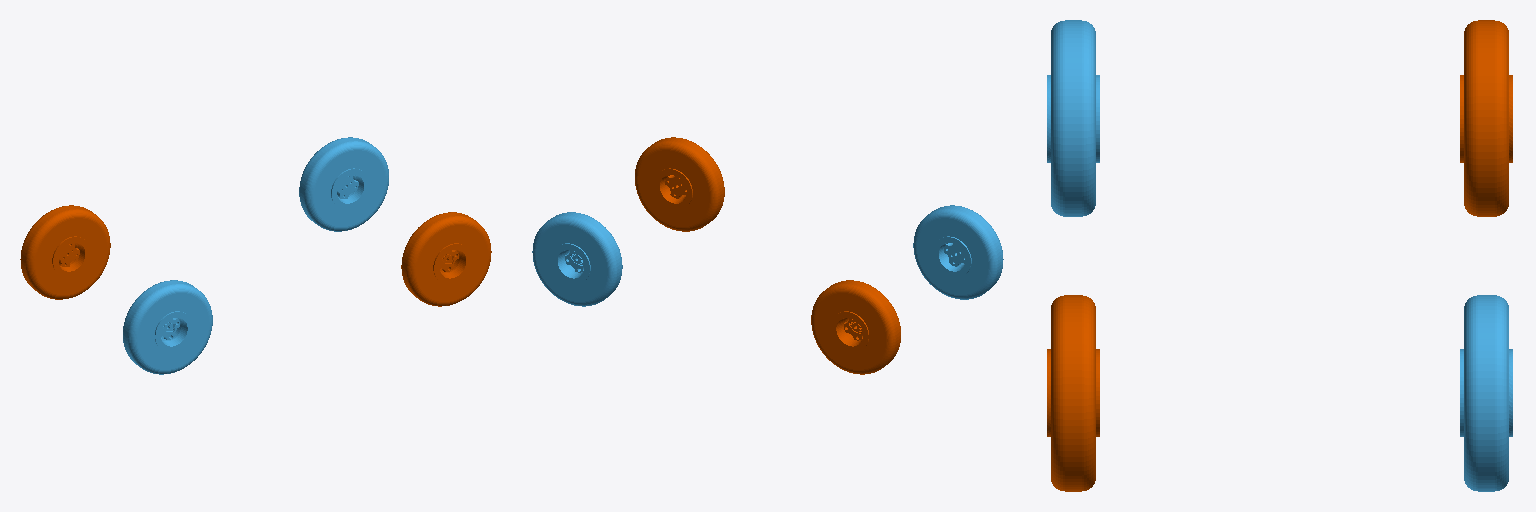
URDF robot description (flowerbot):
<?xml version="1.0" encoding="utf-8"?>
<!-- =================================================================================== -->
<!-- |    This document was autogenerated by xacro from flowerbot.urdf.xacro           | -->
<!-- |    EDITING THIS FILE BY HAND IS NOT RECOMMENDED                                 | -->
<!-- =================================================================================== -->
<robot name="flowerbot" xmlns:xacro="http://ros.org/wiki/xacro">
  <link name="base_footprint"/>
  <joint name="base_joint" type="fixed">
    <origin rpy="0 0 0" xyz="0 0 0.335722"/>
    <parent link="base_footprint"/>
    <child link="base_link"/>
  </joint>
  <gazebo reference="base_link">
    <mu1>0</mu1>
    <mu2>0</mu2>
    <material>Gazebo/Grey</material>
  </gazebo>
  <link name="base_link">
    <inertial>
      <origin rpy="0 0 0" xyz="0 0.0751835052567173 0.414272"/>
      <mass value="8.95683313242359"/>
      <inertia ixx="-0.000003" ixy="0.997477" ixz="-0.070991" iyy="-0.000003" iyz="-0.000007" izz="0.997477"/>
    </inertial>
    <visual>
      <origin rpy="0 0 0" xyz="0 0 0"/>
      <geometry>
        <mesh filename="package://flowerbot_description/meshes/frame_link.STL"/>
      </geometry>
      <material name="material_blue"/>
    </visual>
    <collision>
      <origin rpy="0 0 0" xyz="0 0 0"/>
      <geometry>
        <mesh filename="package://flowerbot_description/meshes/frame_link.STL"/>
      </geometry>
    </collision>
  </link>
  <gazebo reference="wheel0_suspension_link">
    <mu1>0</mu1>
    <mu2>0</mu2>
    <kp>1000000.0</kp>
    <kd>100.0</kd>
    <material>Gazebo/Blue</material>
  </gazebo>
  <link name="wheel0_suspension_link">
    <inertial>
      <origin rpy="0 0 0" xyz="-0.033779  -0.000046 -0.112357"/>
      <mass value="0.27606"/>
      <inertia ixx="0.058272" ixy="-0.000542" ixz="0.998301" iyy="0.001418" iyz="-0.058272" izz="0.000624"/>
    </inertial>
    <visual>
      <origin rpy="0 0 0" xyz="0 0 0"/>
      <geometry>
        <mesh filename="package://flowerbot_description/meshes/suspension_link.STL"/>
      </geometry>
      <material name="material_blue"/>
    </visual>
    <collision>
      <origin rpy="0 0 0" xyz="0 0 0"/>
      <geometry>
        <mesh filename="package://flowerbot_description/meshes/suspension_link.STL"/>
      </geometry>
    </collision>
  </link>
  <joint name="wheel0_suspension_joint" type="fixed">
    <origin rpy="0 0 3.14159265359" xyz="0.3048 -0.29195 0.21"/>
    <parent link="base_link"/>
    <child link="wheel0_suspension_link"/>
  </joint>
  <gazebo reference="wheel0_steering_link">
    <mu1>0</mu1>
    <mu2>0</mu2>
    <kp>1000000.0</kp>
    <kd>100.0</kd>
    <material>Gazebo/Orange</material>
  </gazebo>
  <gazebo reference="wheel0_steering_arm_link">
    <mu1>0</mu1>
    <mu2>0</mu2>
    <kp>1000000.0</kp>
    <kd>100.0</kd>
    <material>Gazebo/Orange</material>
  </gazebo>
  <gazebo reference="wheel0_wheel_link">
    <mu1>1</mu1>
    <mu2>1</mu2>
    <kp>1000000.0</kp>
    <kd>100.0</kd>
    <material>Gazebo/Black</material>
  </gazebo>
  <link name="wheel0_steering_arm_link">
    <inertial>
      <origin rpy="0 0 0" xyz="-0.000033 -0.059005  -0.107760"/>
      <mass value="0.64615"/>
      <inertia ixx="-0.00075" ixy="0.234166" ixz="0.972196" iyy="-0.972192" iyz="0.234167" izz="0.00008"/>
    </inertial>
    <visual>
      <origin rpy="0 0 0" xyz="0 0 0"/>
      <geometry>
        <mesh filename="package://flowerbot_description/meshes/steering_arm_link.STL"/>
      </geometry>
      <material name="material_orange"/>
    </visual>
    <collision>
      <origin rpy="0 0 0" xyz="0 0 0"/>
      <geometry>
        <mesh filename="package://flowerbot_description/meshes/steering_arm_link.STL"/>
      </geometry>
    </collision>
  </link>
  <link name="wheel0_steering_link">
    <inertial>
      <origin rpy="0 0 0" xyz="0.004891 0 0.053105"/>
      <mass value="0.49153"/>
      <inertia ixx="-0.004791" ixy="0" ixz="0.999989" iyy="0.000" iyz="0.004791" izz="0"/>
    </inertial>
    <visual>
      <origin rpy="0 0 0" xyz="0 0 0"/>
      <geometry>
        <mesh filename="package://flowerbot_description/meshes/steering_link.STL"/>
      </geometry>
      <material name="material_orange"/>
    </visual>
    <collision>
      <origin rpy="0 0 0" xyz="0 0 0"/>
      <geometry>
        <mesh filename="package://flowerbot_description/meshes/steering_link.STL"/>
      </geometry>
    </collision>
  </link>
  <joint name="wheel0_steering_joint" type="revolute">
    <origin rpy="0 0 3.14159265359" xyz="0 0 -0.001"/>
    <parent link="wheel0_steering_link"/>
    <child link="wheel0_steering_arm_link"/>
    <axis xyz="0 0 1"/>
    <limit effort="0" lower="-1.57079632679" upper="1.57079632679" velocity="1"/>
    <safety_controller k_velocity="0"/>
  </joint>
  <transmission name="wheel0_steering_joint_control">
    <type>transmission_interface/SimpleTransmission</type>
    <joint name="wheel0_steering_joint">
      <hardwareInterface>hardware_interface/EffortJointInterface</hardwareInterface>
    </joint>
    <actuator name="wheel0_steering_joint_motor">
      <hardwareInterface>hardware_interface/EffortJointInterface</hardwareInterface>
      <mechanicalReduction>504</mechanicalReduction>
    </actuator>
  </transmission>
  <joint name="wheel0_wheel_modular_joint" type="fixed">
    <origin rpy="0 0 0" xyz="-0.142143 0 -0.229872"/>
    <parent link="wheel0_suspension_link"/>
    <child link="wheel0_steering_link"/>
  </joint>
  <link name="wheel0_wheel_link">
    <inertial>
      <origin rpy="0 0 0" xyz="0 0 0.000083"/>
      <mass value="3.2532"/>
      <inertia ixx="0.999544" ixy="-0.030190" ixz="0.000003" iyy="0.999544" iyz="0.000095" izz="1.0"/>
    </inertial>
    <visual>
      <origin rpy="0 0 0" xyz="0 0 0"/>
      <geometry>
        <mesh filename="package://flowerbot_description/meshes/wheel_link.STL"/>
      </geometry>
      <material name="material_black"/>
    </visual>
    <collision>
      <origin rpy="0 0 0" xyz="0 0 0"/>
      <geometry>
        <mesh filename="package://flowerbot_description/meshes/wheel_link.STL"/>
      </geometry>
    </collision>
  </link>
  <joint name="wheel0_driving_joint" type="continuous">
    <origin rpy="-1.57079632679 0 0" xyz="0 0.007981 -0.18"/>
    <parent link="wheel0_steering_arm_link"/>
    <child link="wheel0_wheel_link"/>
    <axis xyz="0 -1 0"/>
    <safety_controller k_velocity="5"/>
  </joint>
  <transmission name="wheel0_driving_joint_control">
    <type>transmission_interface/SimpleTransmission</type>
    <joint name="wheel0_driving_joint">
      <hardwareInterface>hardware_interface/EffortJointInterface</hardwareInterface>
    </joint>
    <actuator name="wheel0_driving_joint_motor">
      <hardwareInterface>hardware_interface/EffortJointInterface</hardwareInterface>
      <mechanicalReduction>84</mechanicalReduction>
    </actuator>
  </transmission>
  <gazebo reference="wheel1_suspension_link">
    <mu1>0</mu1>
    <mu2>0</mu2>
    <kp>1000000.0</kp>
    <kd>100.0</kd>
    <material>Gazebo/Blue</material>
  </gazebo>
  <link name="wheel1_suspension_link">
    <inertial>
      <origin rpy="0 0 0" xyz="-0.033779  -0.000046 -0.112357"/>
      <mass value="0.27606"/>
      <inertia ixx="0.058272" ixy="-0.000542" ixz="0.998301" iyy="0.001418" iyz="-0.058272" izz="0.000624"/>
    </inertial>
    <visual>
      <origin rpy="0 0 0" xyz="0 0 0"/>
      <geometry>
        <mesh filename="package://flowerbot_description/meshes/suspension_link.STL"/>
      </geometry>
      <material name="material_blue"/>
    </visual>
    <collision>
      <origin rpy="0 0 0" xyz="0 0 0"/>
      <geometry>
        <mesh filename="package://flowerbot_description/meshes/suspension_link.STL"/>
      </geometry>
    </collision>
  </link>
  <joint name="wheel1_suspension_joint" type="fixed">
    <origin rpy="0 0 3.14159265359" xyz="0.3048 0.29195 0.21"/>
    <parent link="base_link"/>
    <child link="wheel1_suspension_link"/>
  </joint>
  <gazebo reference="wheel1_steering_link">
    <mu1>0</mu1>
    <mu2>0</mu2>
    <kp>1000000.0</kp>
    <kd>100.0</kd>
    <material>Gazebo/Orange</material>
  </gazebo>
  <gazebo reference="wheel1_steering_arm_link">
    <mu1>0</mu1>
    <mu2>0</mu2>
    <kp>1000000.0</kp>
    <kd>100.0</kd>
    <material>Gazebo/Orange</material>
  </gazebo>
  <gazebo reference="wheel1_wheel_link">
    <mu1>1</mu1>
    <mu2>1</mu2>
    <kp>1000000.0</kp>
    <kd>100.0</kd>
    <material>Gazebo/Black</material>
  </gazebo>
  <link name="wheel1_steering_arm_link">
    <inertial>
      <origin rpy="0 0 0" xyz="-0.000033 -0.059005  -0.107760"/>
      <mass value="0.64615"/>
      <inertia ixx="-0.00075" ixy="0.234166" ixz="0.972196" iyy="-0.972192" iyz="0.234167" izz="0.00008"/>
    </inertial>
    <visual>
      <origin rpy="0 0 0" xyz="0 0 0"/>
      <geometry>
        <mesh filename="package://flowerbot_description/meshes/steering_arm_link.STL"/>
      </geometry>
      <material name="material_orange"/>
    </visual>
    <collision>
      <origin rpy="0 0 0" xyz="0 0 0"/>
      <geometry>
        <mesh filename="package://flowerbot_description/meshes/steering_arm_link.STL"/>
      </geometry>
    </collision>
  </link>
  <link name="wheel1_steering_link">
    <inertial>
      <origin rpy="0 0 0" xyz="0.004891 0 0.053105"/>
      <mass value="0.49153"/>
      <inertia ixx="-0.004791" ixy="0" ixz="0.999989" iyy="0.000" iyz="0.004791" izz="0"/>
    </inertial>
    <visual>
      <origin rpy="0 0 0" xyz="0 0 0"/>
      <geometry>
        <mesh filename="package://flowerbot_description/meshes/steering_link.STL"/>
      </geometry>
      <material name="material_orange"/>
    </visual>
    <collision>
      <origin rpy="0 0 0" xyz="0 0 0"/>
      <geometry>
        <mesh filename="package://flowerbot_description/meshes/steering_link.STL"/>
      </geometry>
    </collision>
  </link>
  <joint name="wheel1_steering_joint" type="revolute">
    <origin rpy="0 0 0" xyz="0 0 -0.001"/>
    <parent link="wheel1_steering_link"/>
    <child link="wheel1_steering_arm_link"/>
    <axis xyz="0 0 1"/>
    <limit effort="0" lower="-1.57079632679" upper="1.57079632679" velocity="1"/>
    <safety_controller k_velocity="0"/>
  </joint>
  <transmission name="wheel1_steering_joint_control">
    <type>transmission_interface/SimpleTransmission</type>
    <joint name="wheel1_steering_joint">
      <hardwareInterface>hardware_interface/EffortJointInterface</hardwareInterface>
    </joint>
    <actuator name="wheel1_steering_joint_motor">
      <hardwareInterface>hardware_interface/EffortJointInterface</hardwareInterface>
      <mechanicalReduction>504</mechanicalReduction>
    </actuator>
  </transmission>
  <joint name="wheel1_wheel_modular_joint" type="fixed">
    <origin rpy="0 0 0" xyz="-0.142143 0 -0.229872"/>
    <parent link="wheel1_suspension_link"/>
    <child link="wheel1_steering_link"/>
  </joint>
  <link name="wheel1_wheel_link">
    <inertial>
      <origin rpy="0 0 0" xyz="0 0 0.000083"/>
      <mass value="3.2532"/>
      <inertia ixx="0.999544" ixy="-0.030190" ixz="0.000003" iyy="0.999544" iyz="0.000095" izz="1.0"/>
    </inertial>
    <visual>
      <origin rpy="0 0 0" xyz="0 0 0"/>
      <geometry>
        <mesh filename="package://flowerbot_description/meshes/wheel_link.STL"/>
      </geometry>
      <material name="material_black"/>
    </visual>
    <collision>
      <origin rpy="0 0 0" xyz="0 0 0"/>
      <geometry>
        <mesh filename="package://flowerbot_description/meshes/wheel_link.STL"/>
      </geometry>
    </collision>
  </link>
  <joint name="wheel1_driving_joint" type="continuous">
    <origin rpy="-1.57079632679 0 0" xyz="0 0.007981 -0.18"/>
    <parent link="wheel1_steering_arm_link"/>
    <child link="wheel1_wheel_link"/>
    <axis xyz="0 -1 0"/>
    <safety_controller k_velocity="5"/>
  </joint>
  <transmission name="wheel1_driving_joint_control">
    <type>transmission_interface/SimpleTransmission</type>
    <joint name="wheel1_driving_joint">
      <hardwareInterface>hardware_interface/EffortJointInterface</hardwareInterface>
    </joint>
    <actuator name="wheel1_driving_joint_motor">
      <hardwareInterface>hardware_interface/EffortJointInterface</hardwareInterface>
      <mechanicalReduction>84</mechanicalReduction>
    </actuator>
  </transmission>
  <gazebo reference="wheel2_suspension_link">
    <mu1>0</mu1>
    <mu2>0</mu2>
    <kp>1000000.0</kp>
    <kd>100.0</kd>
    <material>Gazebo/Blue</material>
  </gazebo>
  <link name="wheel2_suspension_link">
    <inertial>
      <origin rpy="0 0 0" xyz="-0.033779  -0.000046 -0.112357"/>
      <mass value="0.27606"/>
      <inertia ixx="0.058272" ixy="-0.000542" ixz="0.998301" iyy="0.001418" iyz="-0.058272" izz="0.000624"/>
    </inertial>
    <visual>
      <origin rpy="0 0 0" xyz="0 0 0"/>
      <geometry>
        <mesh filename="package://flowerbot_description/meshes/suspension_link.STL"/>
      </geometry>
      <material name="material_blue"/>
    </visual>
    <collision>
      <origin rpy="0 0 0" xyz="0 0 0"/>
      <geometry>
        <mesh filename="package://flowerbot_description/meshes/suspension_link.STL"/>
      </geometry>
    </collision>
  </link>
  <joint name="wheel2_suspension_joint" type="fixed">
    <origin rpy="0 0 0" xyz="-0.3048 0.29195 0.21"/>
    <parent link="base_link"/>
    <child link="wheel2_suspension_link"/>
  </joint>
  <gazebo reference="wheel2_steering_link">
    <mu1>0</mu1>
    <mu2>0</mu2>
    <kp>1000000.0</kp>
    <kd>100.0</kd>
    <material>Gazebo/Orange</material>
  </gazebo>
  <gazebo reference="wheel2_steering_arm_link">
    <mu1>0</mu1>
    <mu2>0</mu2>
    <kp>1000000.0</kp>
    <kd>100.0</kd>
    <material>Gazebo/Orange</material>
  </gazebo>
  <gazebo reference="wheel2_wheel_link">
    <mu1>1</mu1>
    <mu2>1</mu2>
    <kp>1000000.0</kp>
    <kd>100.0</kd>
    <material>Gazebo/Black</material>
  </gazebo>
  <link name="wheel2_steering_arm_link">
    <inertial>
      <origin rpy="0 0 0" xyz="-0.000033 -0.059005  -0.107760"/>
      <mass value="0.64615"/>
      <inertia ixx="-0.00075" ixy="0.234166" ixz="0.972196" iyy="-0.972192" iyz="0.234167" izz="0.00008"/>
    </inertial>
    <visual>
      <origin rpy="0 0 0" xyz="0 0 0"/>
      <geometry>
        <mesh filename="package://flowerbot_description/meshes/steering_arm_link.STL"/>
      </geometry>
      <material name="material_orange"/>
    </visual>
    <collision>
      <origin rpy="0 0 0" xyz="0 0 0"/>
      <geometry>
        <mesh filename="package://flowerbot_description/meshes/steering_arm_link.STL"/>
      </geometry>
    </collision>
  </link>
  <link name="wheel2_steering_link">
    <inertial>
      <origin rpy="0 0 0" xyz="0.004891 0 0.053105"/>
      <mass value="0.49153"/>
      <inertia ixx="-0.004791" ixy="0" ixz="0.999989" iyy="0.000" iyz="0.004791" izz="0"/>
    </inertial>
    <visual>
      <origin rpy="0 0 0" xyz="0 0 0"/>
      <geometry>
        <mesh filename="package://flowerbot_description/meshes/steering_link.STL"/>
      </geometry>
      <material name="material_orange"/>
    </visual>
    <collision>
      <origin rpy="0 0 0" xyz="0 0 0"/>
      <geometry>
        <mesh filename="package://flowerbot_description/meshes/steering_link.STL"/>
      </geometry>
    </collision>
  </link>
  <joint name="wheel2_steering_joint" type="revolute">
    <origin rpy="0 0 3.14159265359" xyz="0 0 -0.001"/>
    <parent link="wheel2_steering_link"/>
    <child link="wheel2_steering_arm_link"/>
    <axis xyz="0 0 1"/>
    <limit effort="0" lower="-1.57079632679" upper="1.57079632679" velocity="1"/>
    <safety_controller k_velocity="0"/>
  </joint>
  <transmission name="wheel2_steering_joint_control">
    <type>transmission_interface/SimpleTransmission</type>
    <joint name="wheel2_steering_joint">
      <hardwareInterface>hardware_interface/EffortJointInterface</hardwareInterface>
    </joint>
    <actuator name="wheel2_steering_joint_motor">
      <hardwareInterface>hardware_interface/EffortJointInterface</hardwareInterface>
      <mechanicalReduction>504</mechanicalReduction>
    </actuator>
  </transmission>
  <joint name="wheel2_wheel_modular_joint" type="fixed">
    <origin rpy="0 0 0" xyz="-0.142143 0 -0.229872"/>
    <parent link="wheel2_suspension_link"/>
    <child link="wheel2_steering_link"/>
  </joint>
  <link name="wheel2_wheel_link">
    <inertial>
      <origin rpy="0 0 0" xyz="0 0 0.000083"/>
      <mass value="3.2532"/>
      <inertia ixx="0.999544" ixy="-0.030190" ixz="0.000003" iyy="0.999544" iyz="0.000095" izz="1.0"/>
    </inertial>
    <visual>
      <origin rpy="0 0 0" xyz="0 0 0"/>
      <geometry>
        <mesh filename="package://flowerbot_description/meshes/wheel_link.STL"/>
      </geometry>
      <material name="material_black"/>
    </visual>
    <collision>
      <origin rpy="0 0 0" xyz="0 0 0"/>
      <geometry>
        <mesh filename="package://flowerbot_description/meshes/wheel_link.STL"/>
      </geometry>
    </collision>
  </link>
  <joint name="wheel2_driving_joint" type="continuous">
    <origin rpy="-1.57079632679 0 0" xyz="0 0.007981 -0.18"/>
    <parent link="wheel2_steering_arm_link"/>
    <child link="wheel2_wheel_link"/>
    <axis xyz="0 -1 0"/>
    <safety_controller k_velocity="5"/>
  </joint>
  <transmission name="wheel2_driving_joint_control">
    <type>transmission_interface/SimpleTransmission</type>
    <joint name="wheel2_driving_joint">
      <hardwareInterface>hardware_interface/EffortJointInterface</hardwareInterface>
    </joint>
    <actuator name="wheel2_driving_joint_motor">
      <hardwareInterface>hardware_interface/EffortJointInterface</hardwareInterface>
      <mechanicalReduction>84</mechanicalReduction>
    </actuator>
  </transmission>
  <gazebo reference="wheel3_suspension_link">
    <mu1>0</mu1>
    <mu2>0</mu2>
    <kp>1000000.0</kp>
    <kd>100.0</kd>
    <material>Gazebo/Blue</material>
  </gazebo>
  <link name="wheel3_suspension_link">
    <inertial>
      <origin rpy="0 0 0" xyz="-0.033779  -0.000046 -0.112357"/>
      <mass value="0.27606"/>
      <inertia ixx="0.058272" ixy="-0.000542" ixz="0.998301" iyy="0.001418" iyz="-0.058272" izz="0.000624"/>
    </inertial>
    <visual>
      <origin rpy="0 0 0" xyz="0 0 0"/>
      <geometry>
        <mesh filename="package://flowerbot_description/meshes/suspension_link.STL"/>
      </geometry>
      <material name="material_blue"/>
    </visual>
    <collision>
      <origin rpy="0 0 0" xyz="0 0 0"/>
      <geometry>
        <mesh filename="package://flowerbot_description/meshes/suspension_link.STL"/>
      </geometry>
    </collision>
  </link>
  <joint name="wheel3_suspension_joint" type="fixed">
    <origin rpy="0 0 0" xyz="-0.3048 -0.29195 0.21"/>
    <parent link="base_link"/>
    <child link="wheel3_suspension_link"/>
  </joint>
  <gazebo reference="wheel3_steering_link">
    <mu1>0</mu1>
    <mu2>0</mu2>
    <kp>1000000.0</kp>
    <kd>100.0</kd>
    <material>Gazebo/Orange</material>
  </gazebo>
  <gazebo reference="wheel3_steering_arm_link">
    <mu1>0</mu1>
    <mu2>0</mu2>
    <kp>1000000.0</kp>
    <kd>100.0</kd>
    <material>Gazebo/Orange</material>
  </gazebo>
  <gazebo reference="wheel3_wheel_link">
    <mu1>1</mu1>
    <mu2>1</mu2>
    <kp>1000000.0</kp>
    <kd>100.0</kd>
    <material>Gazebo/Black</material>
  </gazebo>
  <link name="wheel3_steering_arm_link">
    <inertial>
      <origin rpy="0 0 0" xyz="-0.000033 -0.059005  -0.107760"/>
      <mass value="0.64615"/>
      <inertia ixx="-0.00075" ixy="0.234166" ixz="0.972196" iyy="-0.972192" iyz="0.234167" izz="0.00008"/>
    </inertial>
    <visual>
      <origin rpy="0 0 0" xyz="0 0 0"/>
      <geometry>
        <mesh filename="package://flowerbot_description/meshes/steering_arm_link.STL"/>
      </geometry>
      <material name="material_orange"/>
    </visual>
    <collision>
      <origin rpy="0 0 0" xyz="0 0 0"/>
      <geometry>
        <mesh filename="package://flowerbot_description/meshes/steering_arm_link.STL"/>
      </geometry>
    </collision>
  </link>
  <link name="wheel3_steering_link">
    <inertial>
      <origin rpy="0 0 0" xyz="0.004891 0 0.053105"/>
      <mass value="0.49153"/>
      <inertia ixx="-0.004791" ixy="0" ixz="0.999989" iyy="0.000" iyz="0.004791" izz="0"/>
    </inertial>
    <visual>
      <origin rpy="0 0 0" xyz="0 0 0"/>
      <geometry>
        <mesh filename="package://flowerbot_description/meshes/steering_link.STL"/>
      </geometry>
      <material name="material_orange"/>
    </visual>
    <collision>
      <origin rpy="0 0 0" xyz="0 0 0"/>
      <geometry>
        <mesh filename="package://flowerbot_description/meshes/steering_link.STL"/>
      </geometry>
    </collision>
  </link>
  <joint name="wheel3_steering_joint" type="revolute">
    <origin rpy="0 0 0" xyz="0 0 -0.001"/>
    <parent link="wheel3_steering_link"/>
    <child link="wheel3_steering_arm_link"/>
    <axis xyz="0 0 1"/>
    <limit effort="0" lower="-1.57079632679" upper="1.57079632679" velocity="1"/>
    <safety_controller k_velocity="0"/>
  </joint>
  <transmission name="wheel3_steering_joint_control">
    <type>transmission_interface/SimpleTransmission</type>
    <joint name="wheel3_steering_joint">
      <hardwareInterface>hardware_interface/EffortJointInterface</hardwareInterface>
    </joint>
    <actuator name="wheel3_steering_joint_motor">
      <hardwareInterface>hardware_interface/EffortJointInterface</hardwareInterface>
      <mechanicalReduction>504</mechanicalReduction>
    </actuator>
  </transmission>
  <joint name="wheel3_wheel_modular_joint" type="fixed">
    <origin rpy="0 0 0" xyz="-0.142143 0 -0.229872"/>
    <parent link="wheel3_suspension_link"/>
    <child link="wheel3_steering_link"/>
  </joint>
  <link name="wheel3_wheel_link">
    <inertial>
      <origin rpy="0 0 0" xyz="0 0 0.000083"/>
      <mass value="3.2532"/>
      <inertia ixx="0.999544" ixy="-0.030190" ixz="0.000003" iyy="0.999544" iyz="0.000095" izz="1.0"/>
    </inertial>
    <visual>
      <origin rpy="0 0 0" xyz="0 0 0"/>
      <geometry>
        <mesh filename="package://flowerbot_description/meshes/wheel_link.STL"/>
      </geometry>
      <material name="material_black"/>
    </visual>
    <collision>
      <origin rpy="0 0 0" xyz="0 0 0"/>
      <geometry>
        <mesh filename="package://flowerbot_description/meshes/wheel_link.STL"/>
      </geometry>
    </collision>
  </link>
  <joint name="wheel3_driving_joint" type="continuous">
    <origin rpy="-1.57079632679 0 0" xyz="0 0.007981 -0.18"/>
    <parent link="wheel3_steering_arm_link"/>
    <child link="wheel3_wheel_link"/>
    <axis xyz="0 -1 0"/>
    <safety_controller k_velocity="5"/>
  </joint>
  <transmission name="wheel3_driving_joint_control">
    <type>transmission_interface/SimpleTransmission</type>
    <joint name="wheel3_driving_joint">
      <hardwareInterface>hardware_interface/EffortJointInterface</hardwareInterface>
    </joint>
    <actuator name="wheel3_driving_joint_motor">
      <hardwareInterface>hardware_interface/EffortJointInterface</hardwareInterface>
      <mechanicalReduction>84</mechanicalReduction>
    </actuator>
  </transmission>
  <gazebo>
    <plugin filename="libgazebo_ros_control.so" name="gazebo_ros_control">
      <robotNamespace>/flowerbot</robotNamespace>
      <robotParam>/robot_description</robotParam>
      <robotSimType>gazebo_ros_control/DefaultRobotHWSim</robotSimType>
    </plugin>
  </gazebo>
</robot>

--- Render facts (derived) ---
The picture shows the robot from 3 angles, left to right: view 1: azimuth 30°, elevation 25°; view 2: azimuth 150°, elevation 25°; view 3: azimuth 270°, elevation 25°; orthographic projection.
Robot: flowerbot — 18 links, 17 joints (4 revolute, 4 continuous, 9 fixed); root link base_footprint; default pose: every joint at zero.
Visible links, largest first — view 1: wheel1_wheel_link, wheel3_wheel_link, wheel0_wheel_link, wheel2_wheel_link; view 2: wheel0_wheel_link, wheel2_wheel_link, wheel3_wheel_link, wheel1_wheel_link; view 3: wheel1_wheel_link, wheel2_wheel_link, wheel3_wheel_link, wheel0_wheel_link.
Link boxes in pixels (x1,y1,x2,y2): wheel1_wheel_link: (299,137,388,231); wheel3_wheel_link: (123,280,212,374); wheel0_wheel_link: (401,212,491,306); wheel2_wheel_link: (20,205,110,299); wheel0_wheel_link: (635,137,724,231); wheel2_wheel_link: (811,280,900,374); wheel3_wheel_link: (913,205,1003,299); wheel1_wheel_link: (532,212,622,306); wheel1_wheel_link: (1460,295,1512,491); wheel2_wheel_link: (1460,20,1512,216); wheel3_wheel_link: (1047,20,1099,216); wheel0_wheel_link: (1047,295,1099,491).
Size in the robot's own frame: 1.16 by 0.6403 by 0.2696 metres.
4 mesh visuals loaded from 5 distinct referenced files (1 binary STL); not drawn: 9 (reference not matched to a file when rendering), 4 (file found but could not be loaded).